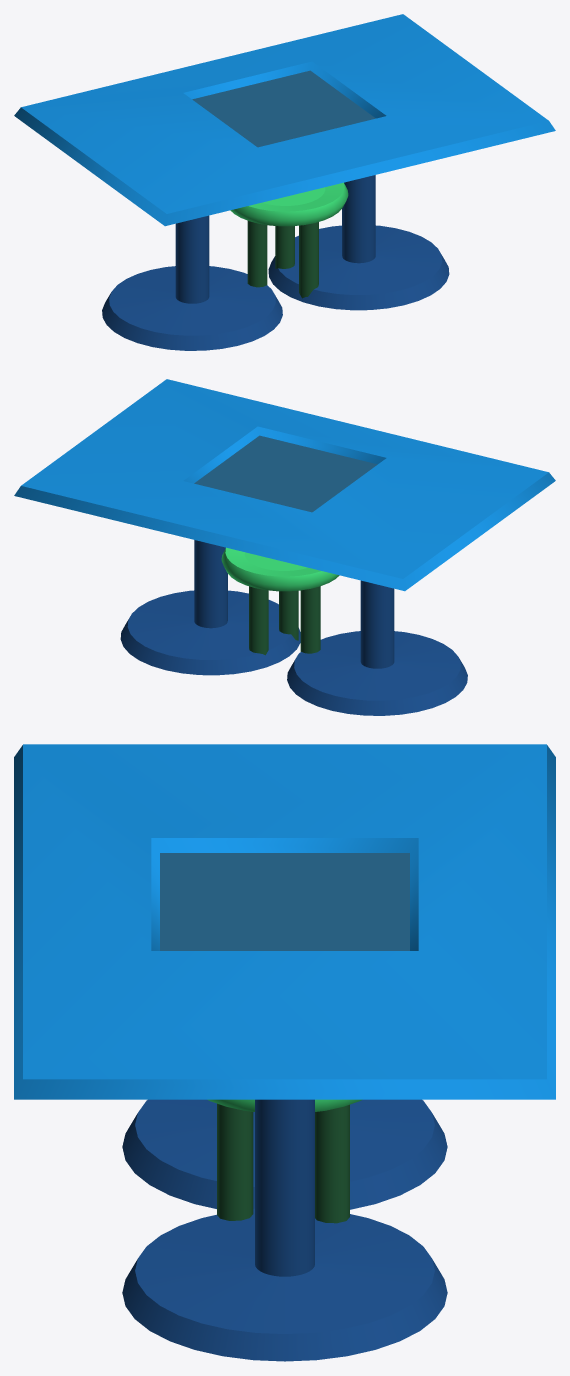
Rendered from TableAndChairRectangle.fbx.
The picture shows the model from 3 angles, top to bottom: view 1: azimuth 30°, elevation 25°; view 2: azimuth 150°, elevation 25°; view 3: azimuth 270°, elevation 25°; orthographic projection. The views are drawn at different scales.
Parts seen in each view (by area): view 1: Table_1, Table, Table_3, Table_2, Chair; view 2: Table_1, Table, Table_3, Table_2, Chair; view 3: Table_1, Table_3, Table_2, Table, Chair.
Boxes of the visible parts, x1,y1,x2,y2 form: Table_1: [14, 14, 555, 226]; Table: [102, 215, 282, 350]; Table_3: [268, 175, 449, 310]; Table_2: [192, 70, 375, 147]; Chair: [230, 182, 348, 298]; Table_1: [14, 379, 555, 591]; Table: [287, 580, 467, 715]; Table_3: [120, 540, 300, 675]; Table_2: [194, 435, 377, 512]; Chair: [221, 547, 339, 655]; Table_1: [14, 744, 555, 1099]; Table_3: [122, 1099, 447, 1361]; Table_2: [160, 853, 409, 950]; Table: [122, 1099, 447, 1209]; Chair: [207, 1099, 362, 1223].
Bounding box in the file's own units: 211 × 95.98 × 141.
